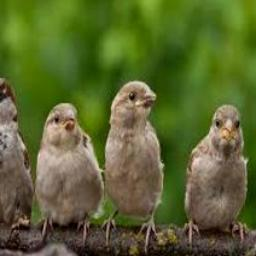Sparrow: (101, 80, 163, 250), (182, 104, 249, 249), (35, 102, 104, 237), (0, 75, 34, 238)
